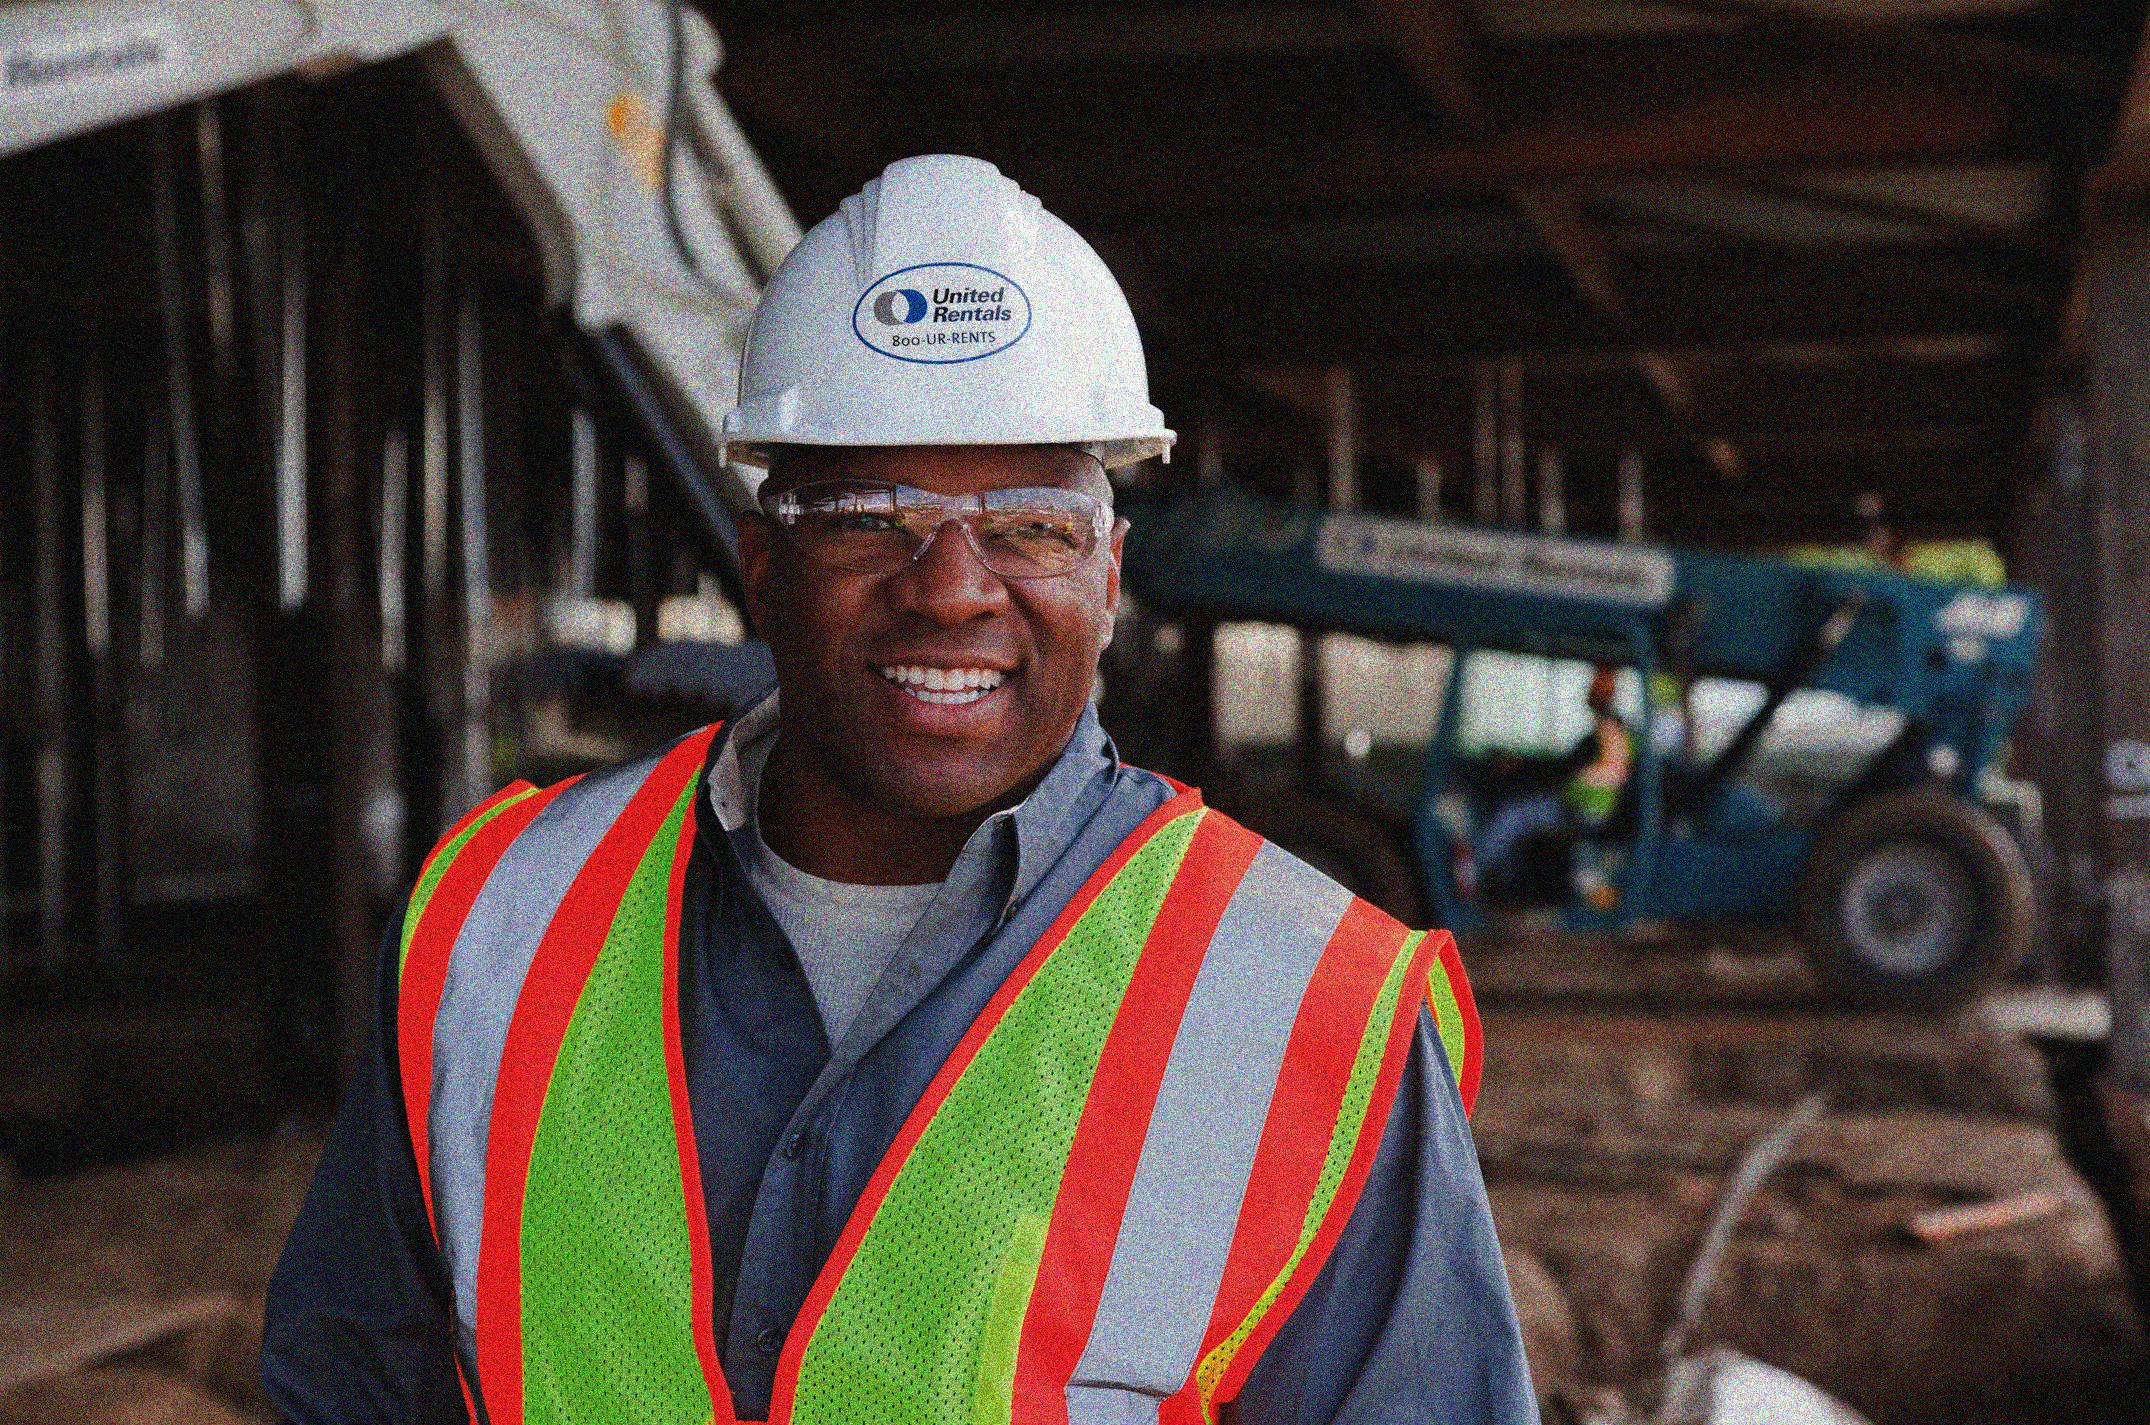helmet: (716, 146, 1174, 813)
